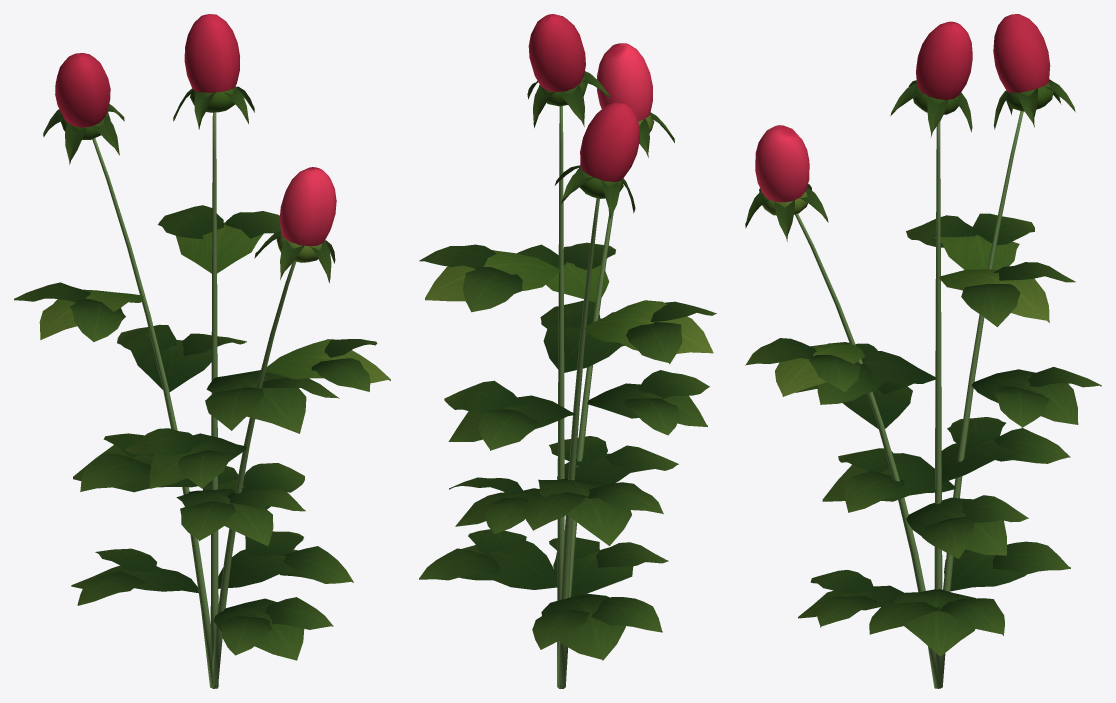
Rendered from rose-08-lod.glb.
3 renders of one model, left to right at view 1: azimuth 30°, elevation 25°; view 2: azimuth 150°, elevation 25°; view 3: azimuth 270°, elevation 25°, orthographic.
Visible parts, largest first — view 1: rose_stage_08_leaf_veins.015, rose_stage_08_rose_petal.015, rose_stage_08_stem_fibres.015, rose_stage_08_young_leaf.015; view 2: rose_stage_08_leaf_veins.015, rose_stage_08_rose_petal.015, rose_stage_08_young_leaf.015, rose_stage_08_stem_fibres.015; view 3: rose_stage_08_leaf_veins.015, rose_stage_08_rose_petal.015, rose_stage_08_young_leaf.015, rose_stage_08_stem_fibres.015.
Part boxes in pixels (left/top/right/bottom): rose_stage_08_leaf_veins.015: left=14, top=86, right=377, bottom=660; rose_stage_08_rose_petal.015: left=55, top=14, right=336, bottom=246; rose_stage_08_stem_fibres.015: left=92, top=112, right=296, bottom=688; rose_stage_08_young_leaf.015: left=39, top=86, right=390, bottom=383; rose_stage_08_leaf_veins.015: left=419, top=71, right=716, bottom=660; rose_stage_08_rose_petal.015: left=528, top=14, right=652, bottom=182; rose_stage_08_young_leaf.015: left=425, top=76, right=713, bottom=353; rose_stage_08_stem_fibres.015: left=557, top=106, right=613, bottom=688; rose_stage_08_leaf_veins.015: left=745, top=79, right=1101, bottom=656; rose_stage_08_rose_petal.015: left=755, top=14, right=1050, bottom=202; rose_stage_08_young_leaf.015: left=762, top=82, right=1053, bottom=396; rose_stage_08_stem_fibres.015: left=795, top=111, right=1023, bottom=688.
Bounding box in the file's own units: 0.2991 × 0.6648 × 0.3229.
Materials: 4 (3 with a texture image).
